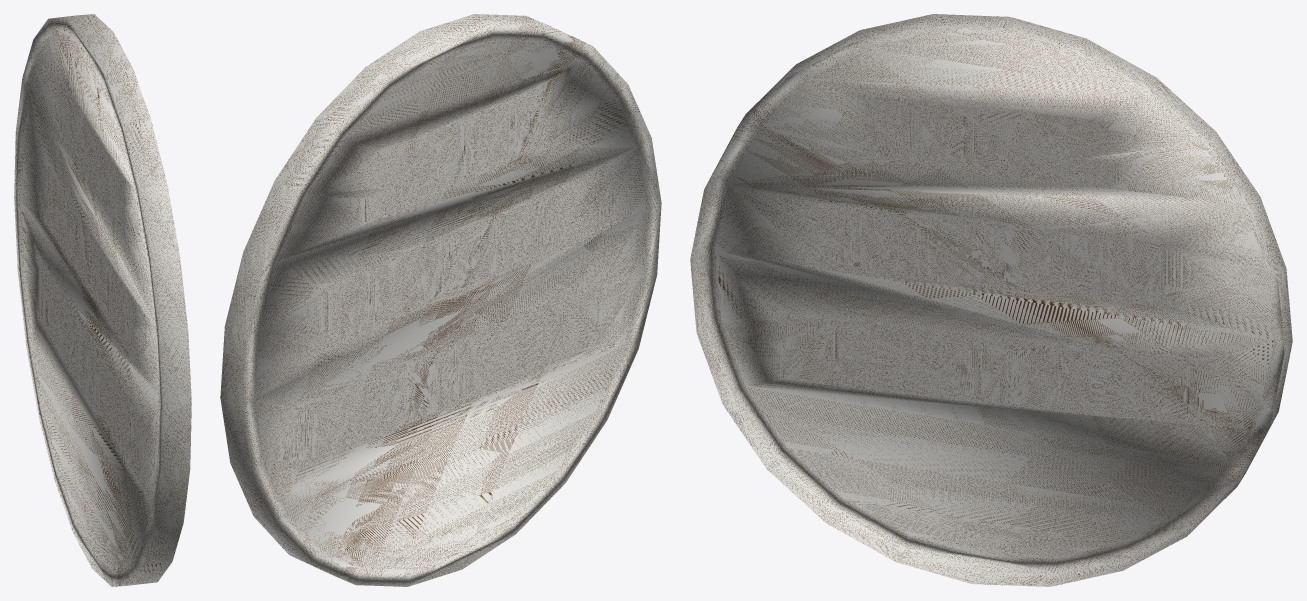
The model's file is original-20.obj.
3 renders of one model, left to right at view 1: azimuth 30°, elevation 25°; view 2: azimuth 150°, elevation 25°; view 3: azimuth 270°, elevation 25°, orthographic. The views are drawn at different scales.
Visible parts, largest first — view 1: mesh8/mesh8-geometry/material_1/component_3#mesh8-geometry; view 2: mesh8/mesh8-geometry/material_1/component_3#mesh8-geometry; view 3: mesh8/mesh8-geometry/material_1/component_3#mesh8-geometry.
Part boxes in pixels (x1,y1,x2,y2): mesh8/mesh8-geometry/material_1/component_3#mesh8-geometry: (14, 14, 191, 586); mesh8/mesh8-geometry/material_1/component_3#mesh8-geometry: (220, 14, 661, 586); mesh8/mesh8-geometry/material_1/component_3#mesh8-geometry: (690, 14, 1292, 586).
Bounding box in the file's own units: 0.0793 × 0.2571 × 0.2518.
2 materials, 1 textured.
